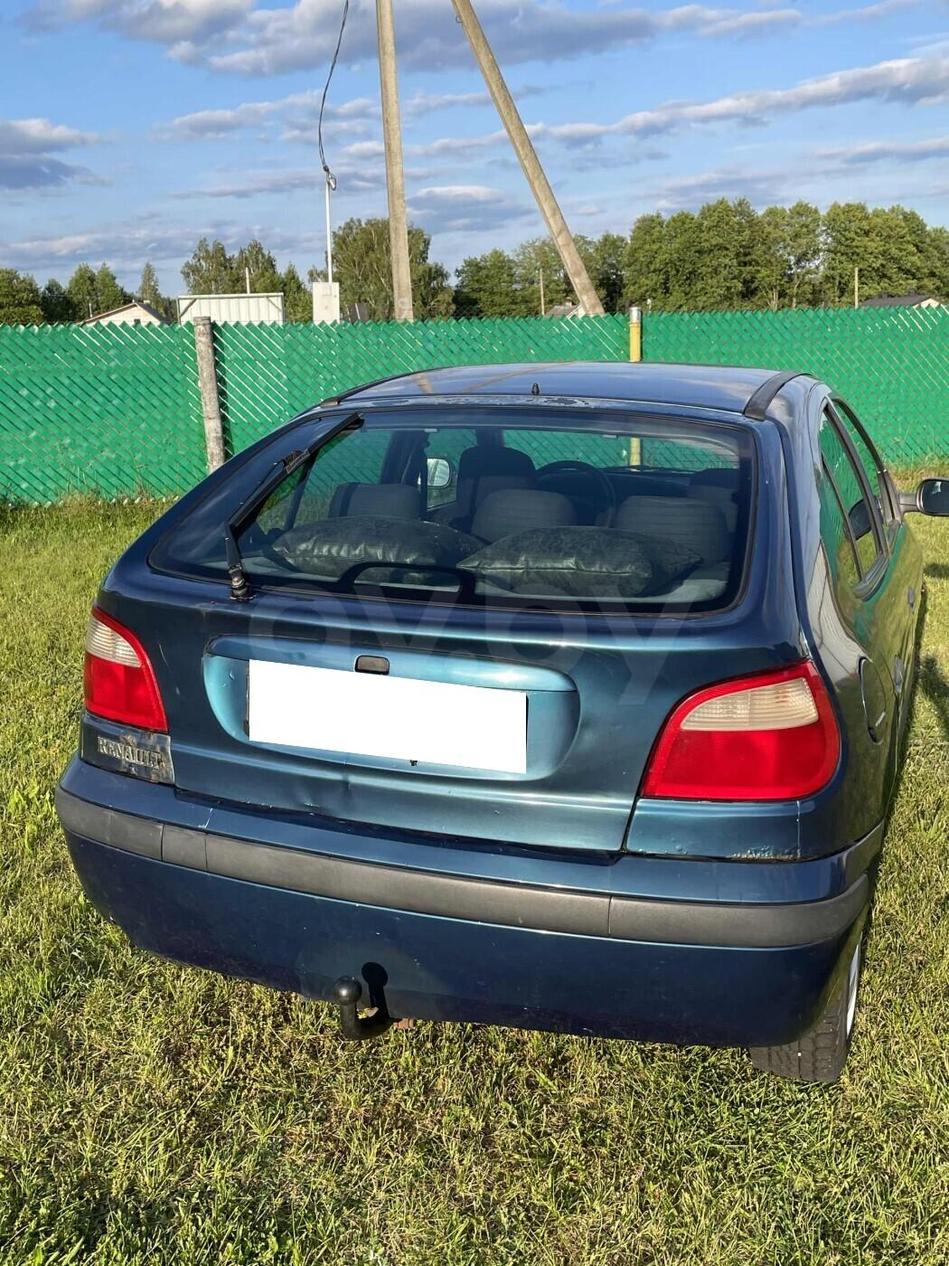Megane_1999-2003: (51, 356, 933, 1076)
